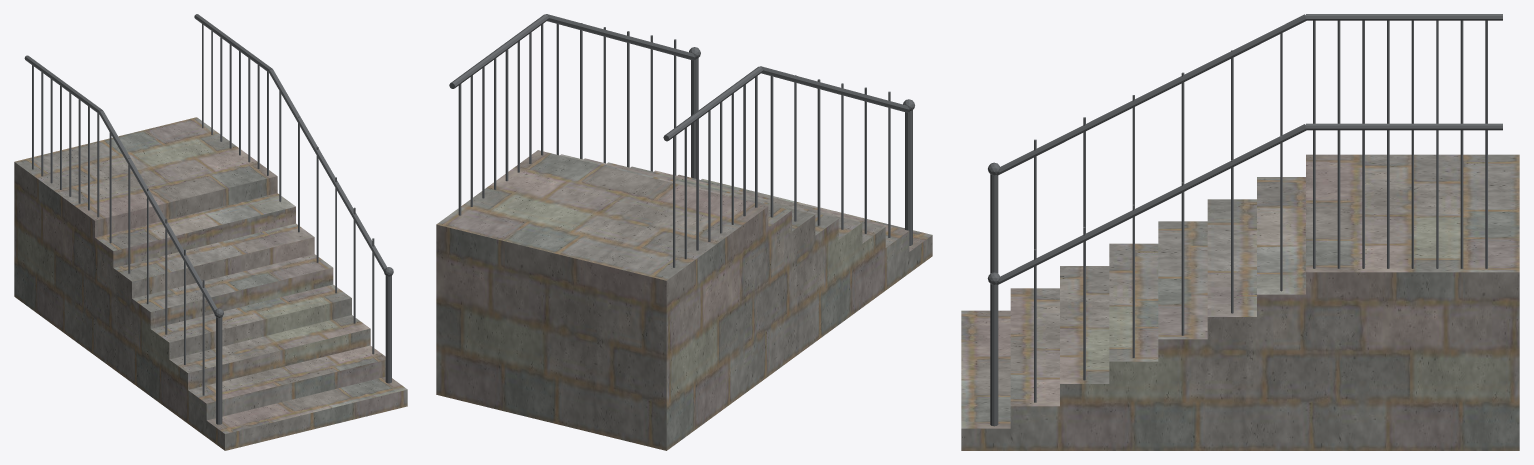
File: back_steps.glb
3 renders of one model, left to right at view 1: azimuth 30°, elevation 25°; view 2: azimuth 150°, elevation 25°; view 3: azimuth 270°, elevation 25°, orthographic. The views are drawn at different scales.
Visible parts, largest first — view 1: back_steps_granite, back_steps_iron; view 2: back_steps_granite, back_steps_iron; view 3: back_steps_granite, back_steps_iron.
Boxes of the visible parts, x1,y1,x2,y2 form: back_steps_granite: [14, 117, 407, 450]; back_steps_iron: [24, 14, 393, 424]; back_steps_granite: [436, 150, 932, 450]; back_steps_iron: [449, 14, 914, 267]; back_steps_granite: [961, 154, 1519, 450]; back_steps_iron: [987, 14, 1502, 426].
Bounding box in the file's own units: 1.7 × 2.17 × 3.4.
Materials: 2 (1 with a texture image).
